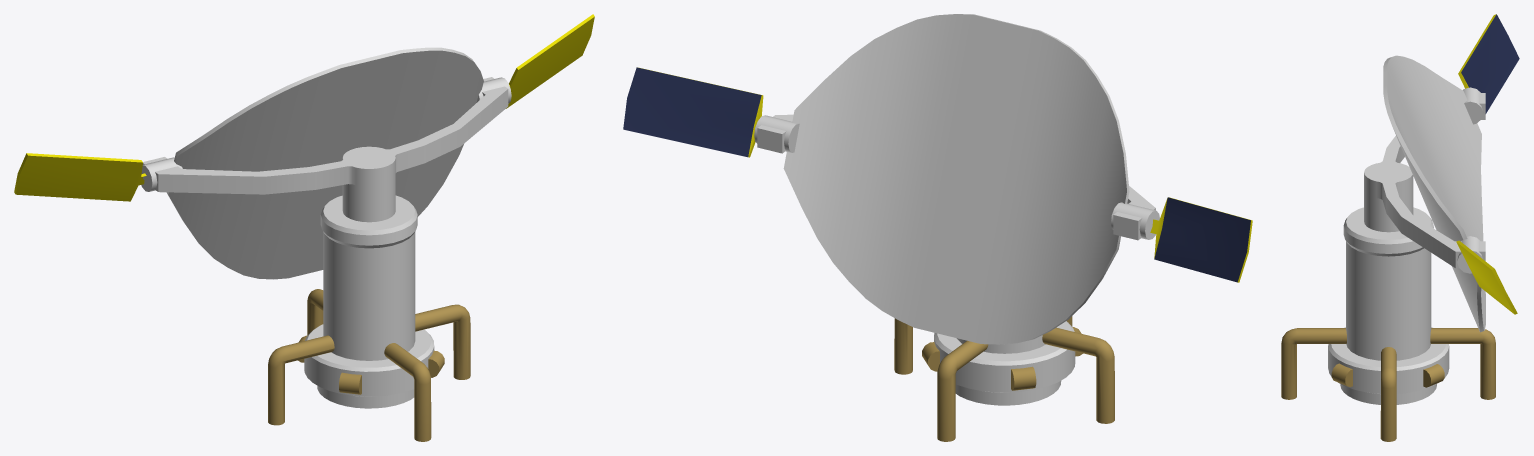
The model's file is Mission.fbx.
3 renders of one model, left to right at view 1: azimuth 30°, elevation 25°; view 2: azimuth 150°, elevation 25°; view 3: azimuth 270°, elevation 25°, orthographic. The views are drawn at different scales.
Visible parts, largest first — view 1: Mission_up, Mission_main; view 2: Mission_up, Mission_main; view 3: Mission_up, Mission_main.
Part boxes in pixels (bbox=[...]): Mission_up: bbox=[14, 14, 594, 279]; Mission_main: bbox=[268, 177, 470, 441]; Mission_up: bbox=[623, 14, 1252, 344]; Mission_main: bbox=[894, 316, 1114, 441]; Mission_up: bbox=[1364, 14, 1519, 332]; Mission_main: bbox=[1281, 189, 1495, 441].
Size of the model in its own units: 708 by 405 by 276.
